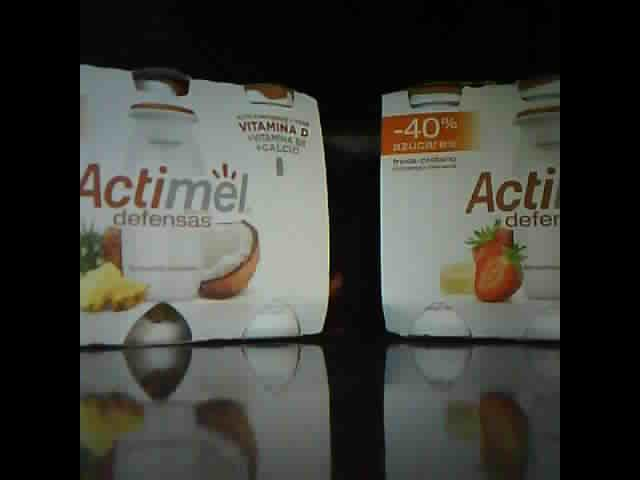actimel: (80, 59, 333, 348), (379, 73, 559, 343)
